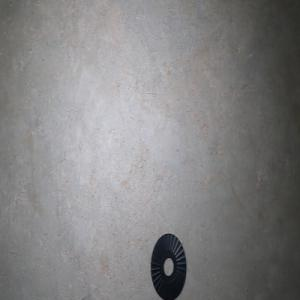Washer: (150, 233, 186, 300)
